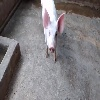heo: (41, 7, 65, 64)
